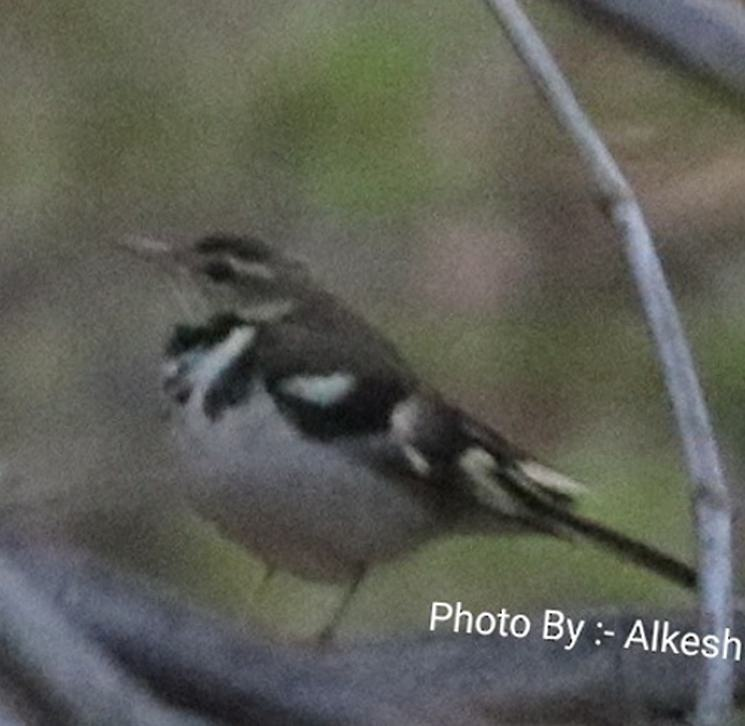wagtail: (76, 191, 635, 671)
